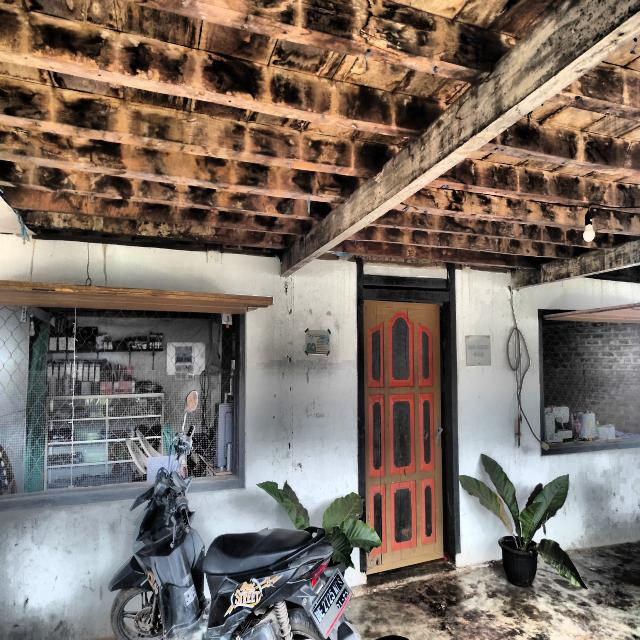door: (358, 274, 461, 571)
wall: (0, 236, 639, 640)
window: (0, 281, 274, 512), (539, 302, 639, 454)
